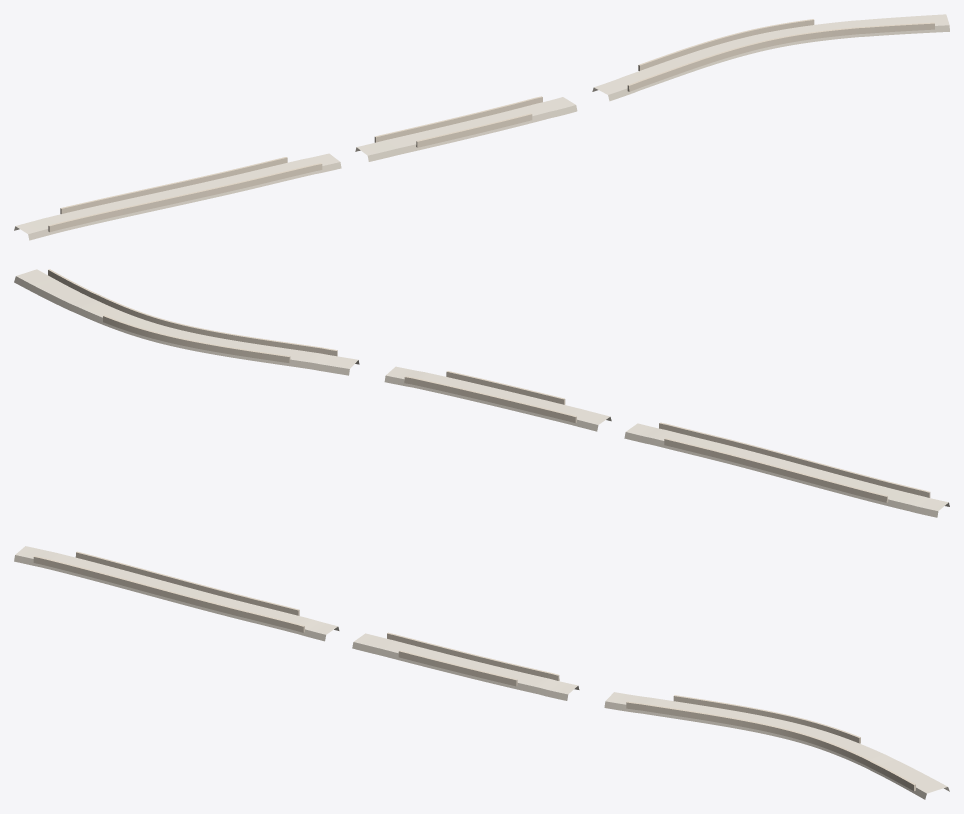
The model's file is SM_RiyadhNights_Shortcut_DiriyahBreach.fbx.
3 renders of one model, top to bottom at view 1: azimuth 30°, elevation 25°; view 2: azimuth 150°, elevation 25°; view 3: azimuth 330°, elevation 25°, orthographic.
Visible parts, largest first — view 1: SM_RiyadhNights_Shortcut_DiriyahBreach; view 2: SM_RiyadhNights_Shortcut_DiriyahBreach; view 3: SM_RiyadhNights_Shortcut_DiriyahBreach.
Part boxes in pixels (left/top/right/bottom): SM_RiyadhNights_Shortcut_DiriyahBreach: left=14, top=14, right=949, bottom=240; SM_RiyadhNights_Shortcut_DiriyahBreach: left=14, top=269, right=949, bottom=517; SM_RiyadhNights_Shortcut_DiriyahBreach: left=14, top=546, right=949, bottom=799.
Bounding box in the file's own units: 27496 × 364 × 2144.
